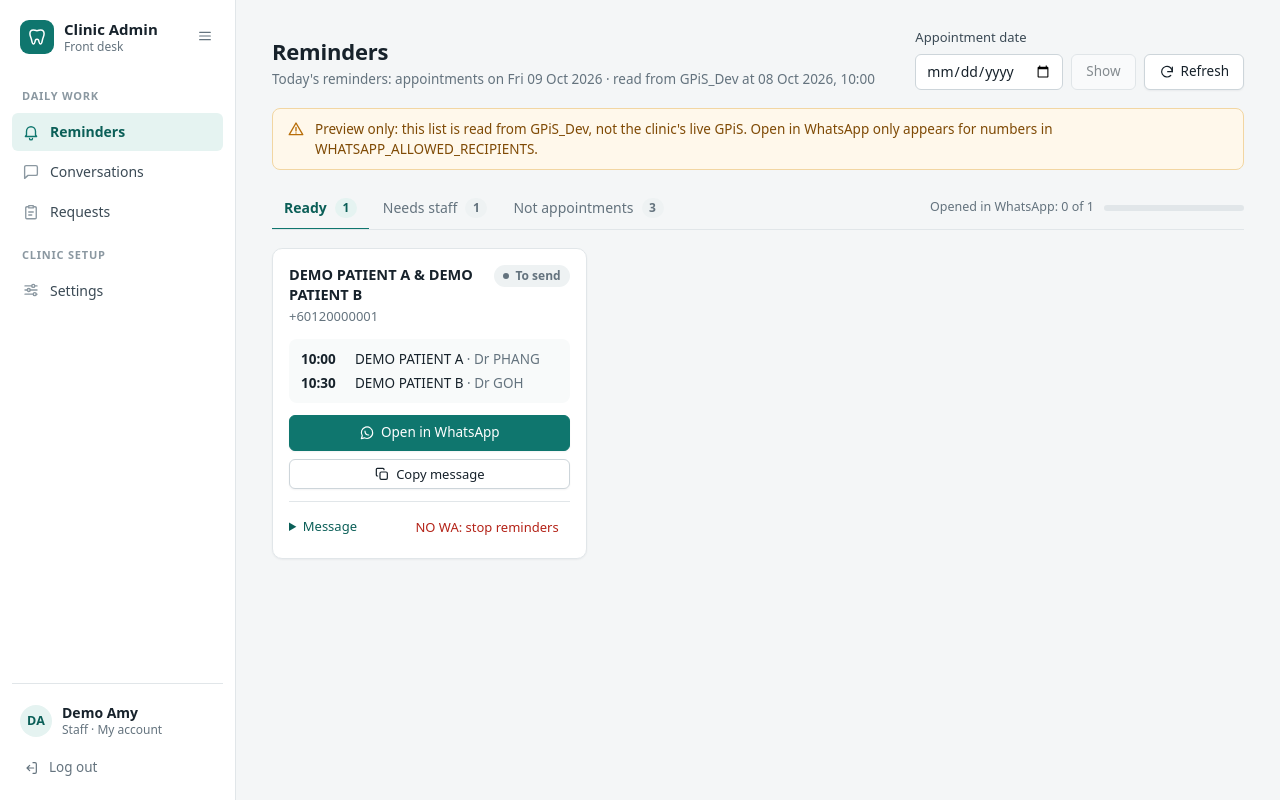
reminders › shows the family as one message with Open in WhatsApp
Expected: the heading "Reminders" is shown, [272,36,388,66]
Expected: the text "Preview only: this list is read from GPiS_Dev" is shown, [315,120,1052,158]
Click the link "Open in WhatsApp".
click(429, 433)  # box [289,415,570,451]
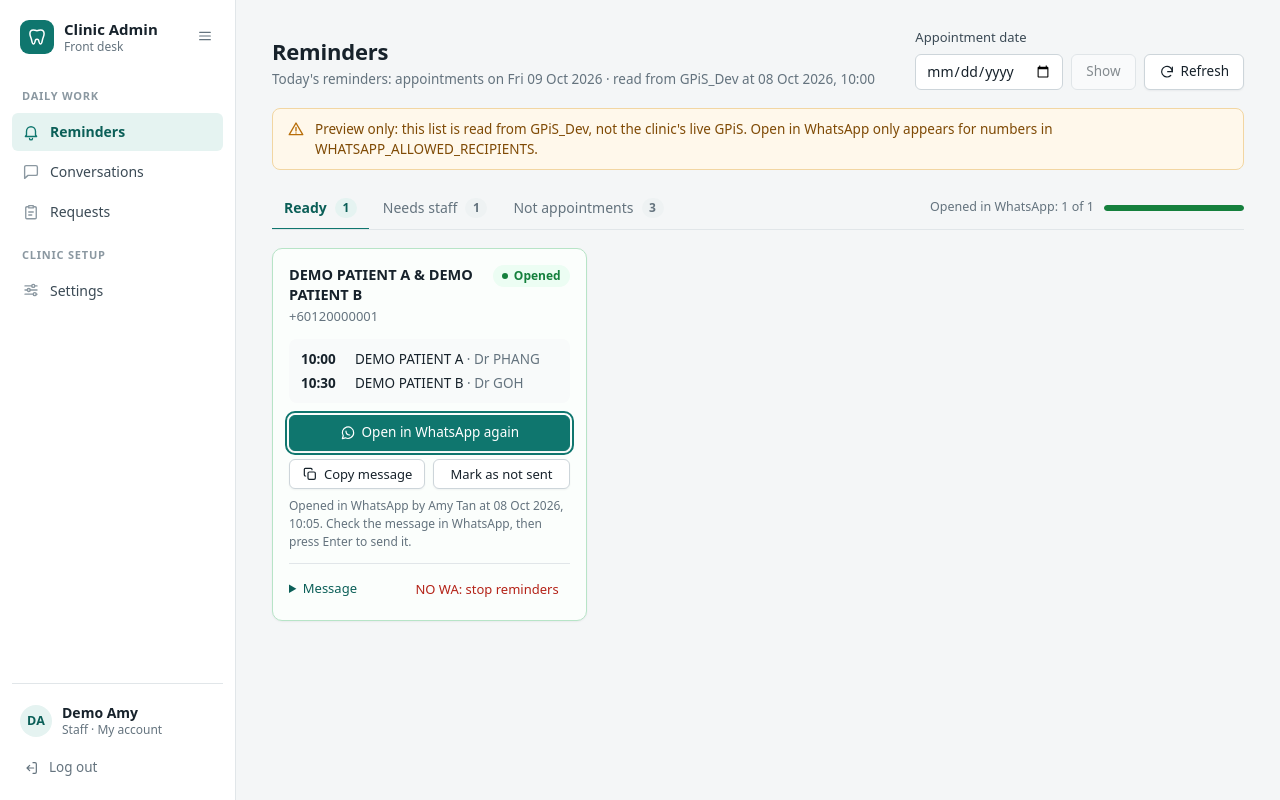
Now the text "Opened" is shown, box [493,265,570,287]
Now the text "Opened in WhatsApp: 1 of 1" is shown, box [930,198,1094,217]
Now the link "Open in WhatsApp again" is shown, box [289,415,570,451]
